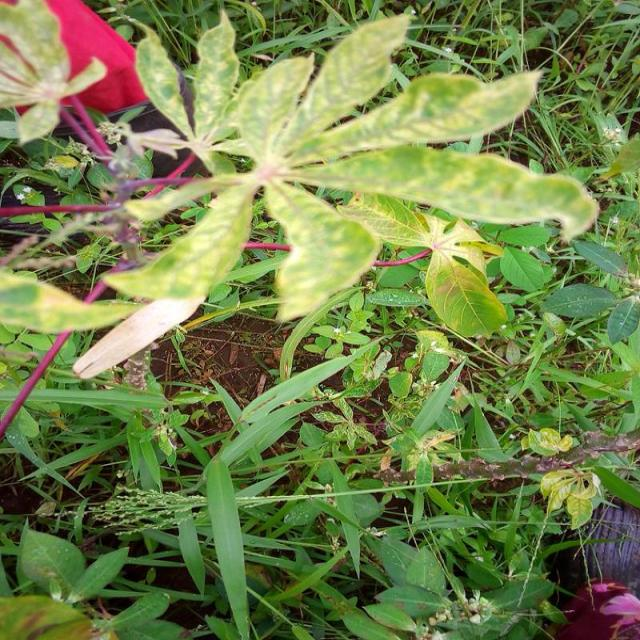cassava leaf: (68, 7, 599, 380)
